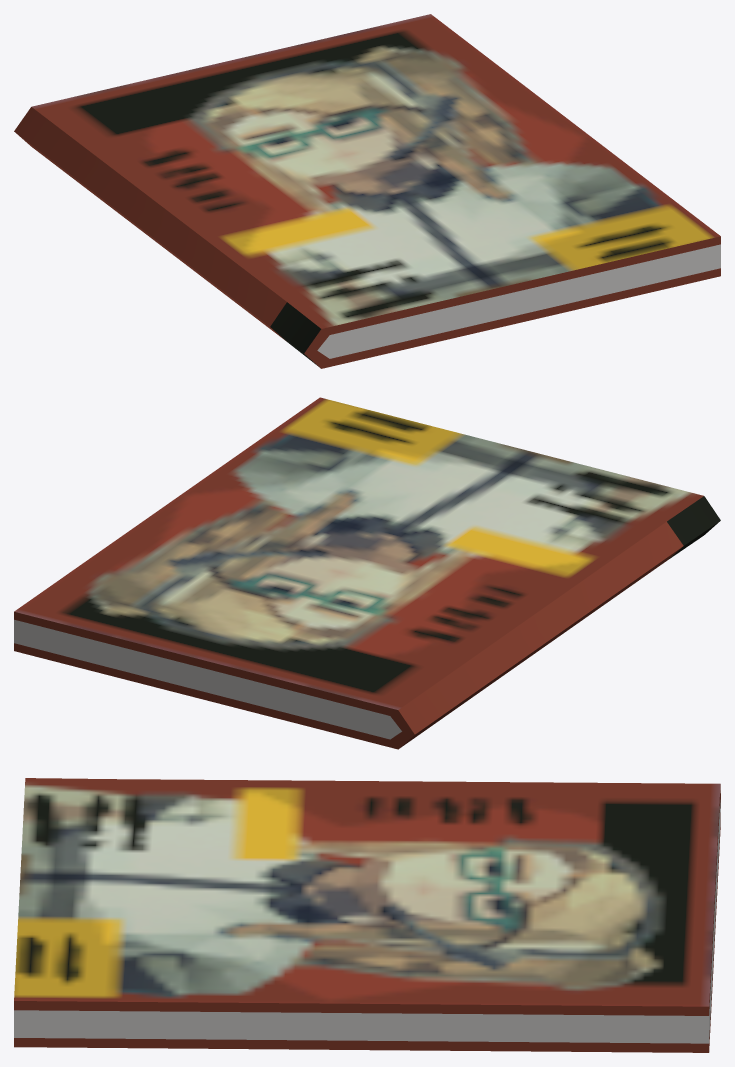
File: SM_Prop_Book_Magazine_01.glb
The picture shows the model from 3 angles, top to bottom: view 1: azimuth 30°, elevation 25°; view 2: azimuth 150°, elevation 25°; view 3: azimuth 270°, elevation 25°; orthographic projection. The views are drawn at different scales.
Parts seen in each view (by area): view 1: SM_Prop_Book_Magazine_01; view 2: SM_Prop_Book_Magazine_01; view 3: SM_Prop_Book_Magazine_01.
Part boxes in pixels (x1=…): SM_Prop_Book_Magazine_01: x1=14, y1=14, x2=720, y2=368; SM_Prop_Book_Magazine_01: x1=14, y1=397, x2=720, y2=749; SM_Prop_Book_Magazine_01: x1=14, y1=778, x2=720, y2=1052.
Size of the model in its own units: 0.3084 by 0.0279 by 0.3866.
1 material, 1 textured.
